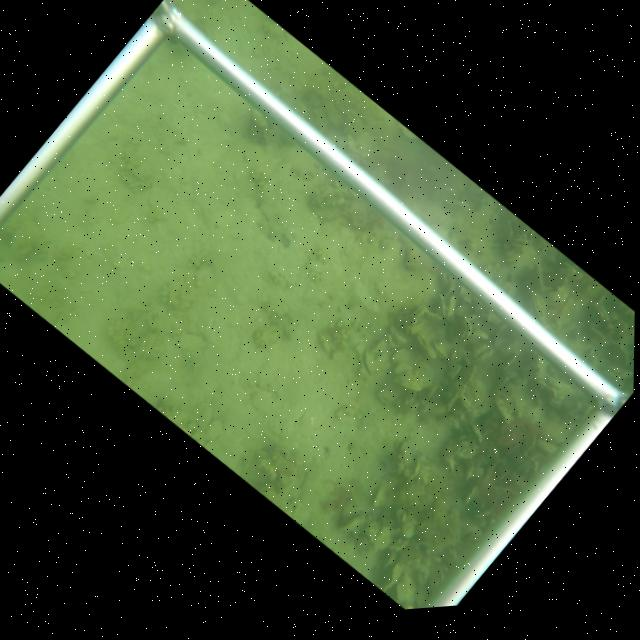Oyster-Closed: (522, 280, 546, 324), (375, 383, 403, 409), (451, 313, 472, 341), (597, 368, 623, 390), (493, 395, 511, 426), (588, 302, 608, 323), (444, 295, 456, 324), (495, 366, 507, 389)
Oyster-Indeterminate: (444, 381, 468, 412), (380, 562, 404, 592), (392, 370, 421, 393), (371, 486, 386, 508), (410, 458, 421, 481)
Oyster-Open: (388, 343, 424, 368), (359, 348, 378, 376), (470, 343, 493, 364), (500, 216, 519, 238), (414, 332, 430, 350), (506, 239, 528, 248)
